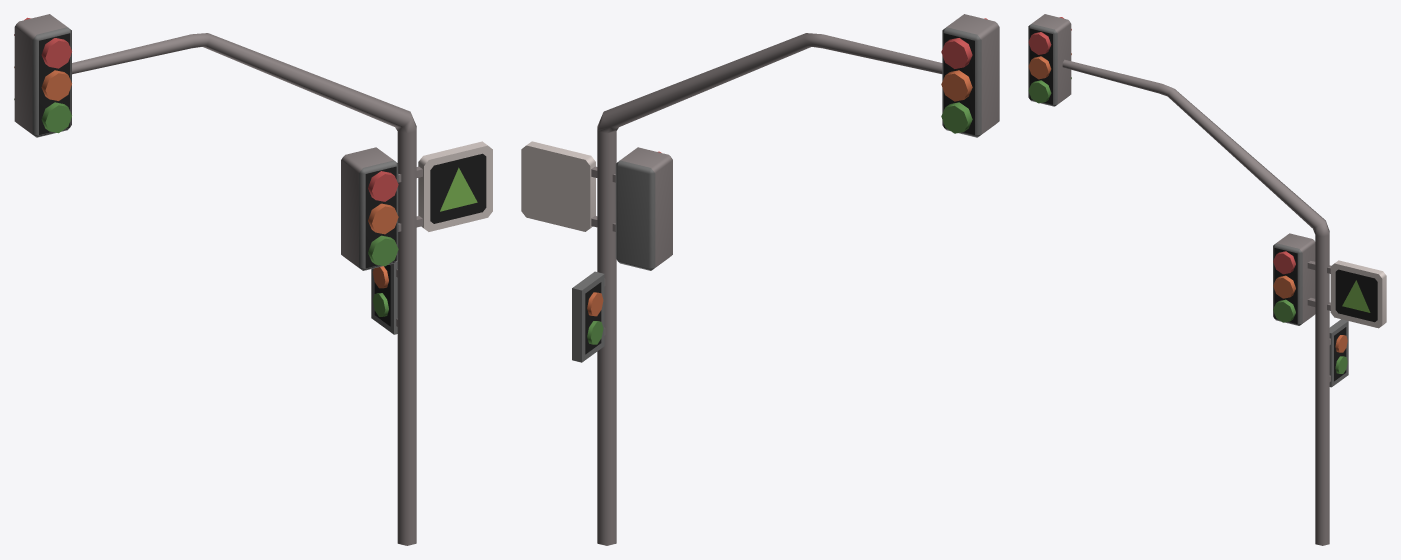
The model's file is traffic_light_002.fbx.
The picture shows the model from 3 angles, left to right: view 1: azimuth 30°, elevation 25°; view 2: azimuth 150°, elevation 25°; view 3: azimuth 330°, elevation 25°; orthographic projection. The views are drawn at different scales.
Visible parts, largest first — view 1: traffic_light_002; view 2: traffic_light_002; view 3: traffic_light_002.
Part boxes in pixels (box(x1,y1,x2,y2)): traffic_light_002: box(14, 14, 492, 545); traffic_light_002: box(521, 14, 999, 545); traffic_light_002: box(1028, 14, 1386, 545).
Bounding box in the file's own units: 473 × 588 × 80.43.
